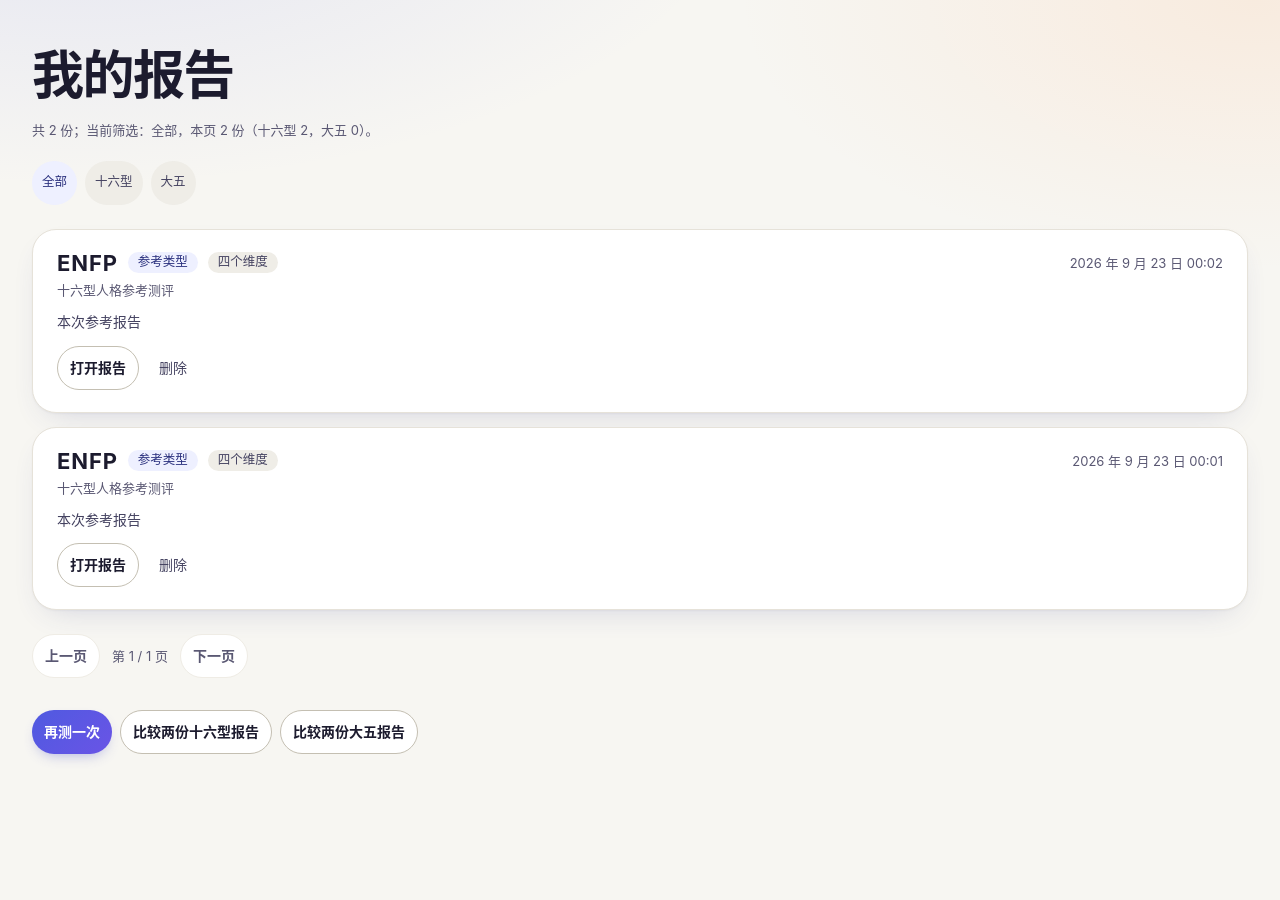
Test: 历史报告分页 › 刷新失败时仍留下已经载入的报告
Expected: the number of list items is 2, [32, 229, 1248, 412]; [32, 426, 1248, 610]
Click the button "十六型": click(114, 183) [85, 161, 142, 205]
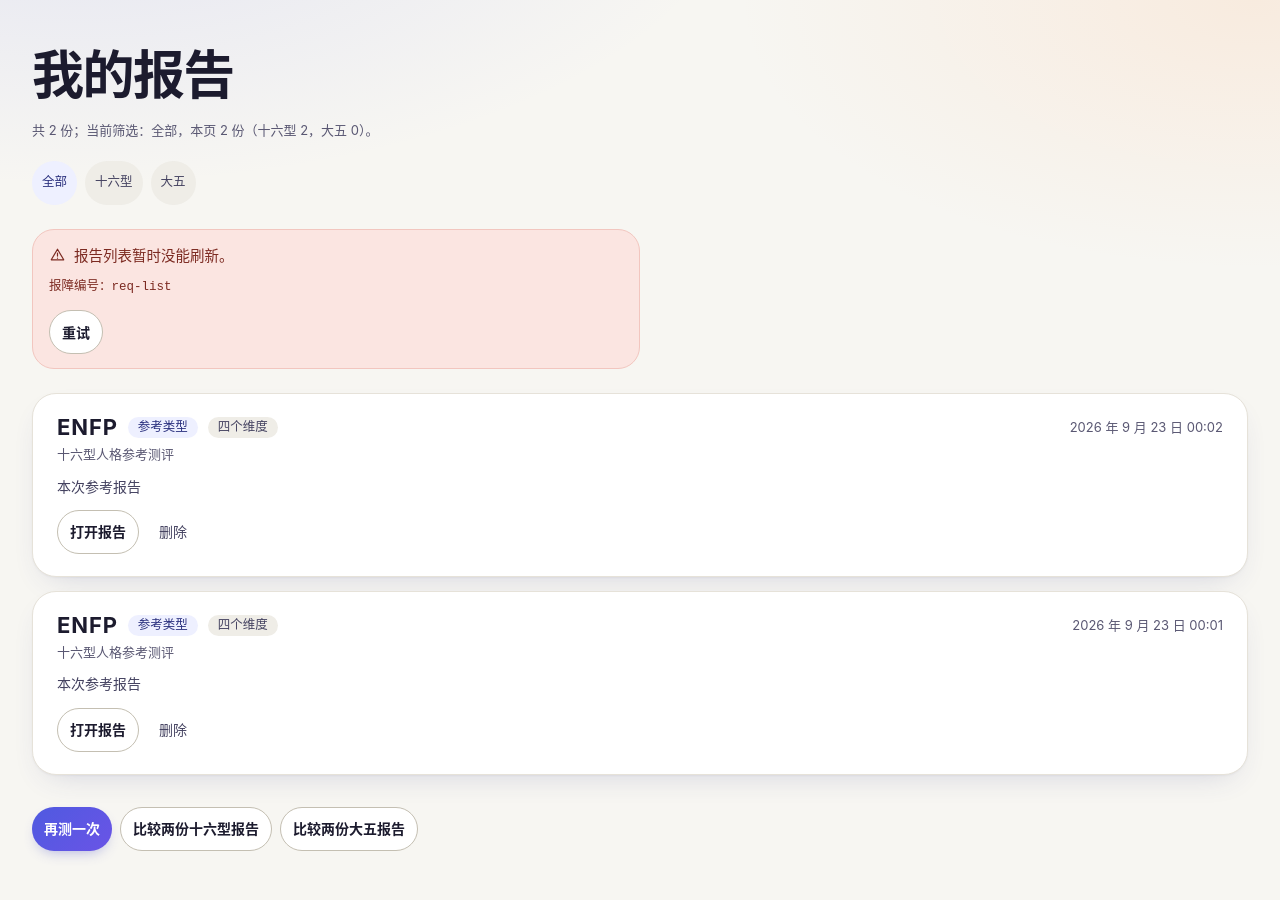
Expected: the number of list items is 2, [32, 393, 1248, 577]; [32, 591, 1248, 775]
Result: the message "报告列表暂时没能刷新。 报障编号：req-list 重试" is shown at [32, 229, 640, 369]
